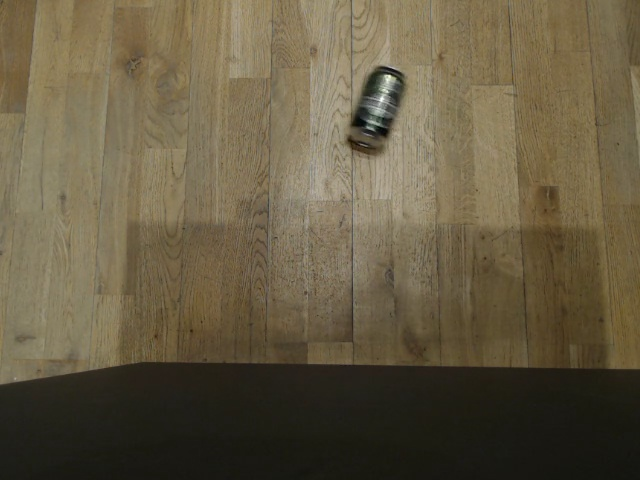beer: (346, 64, 408, 154)
